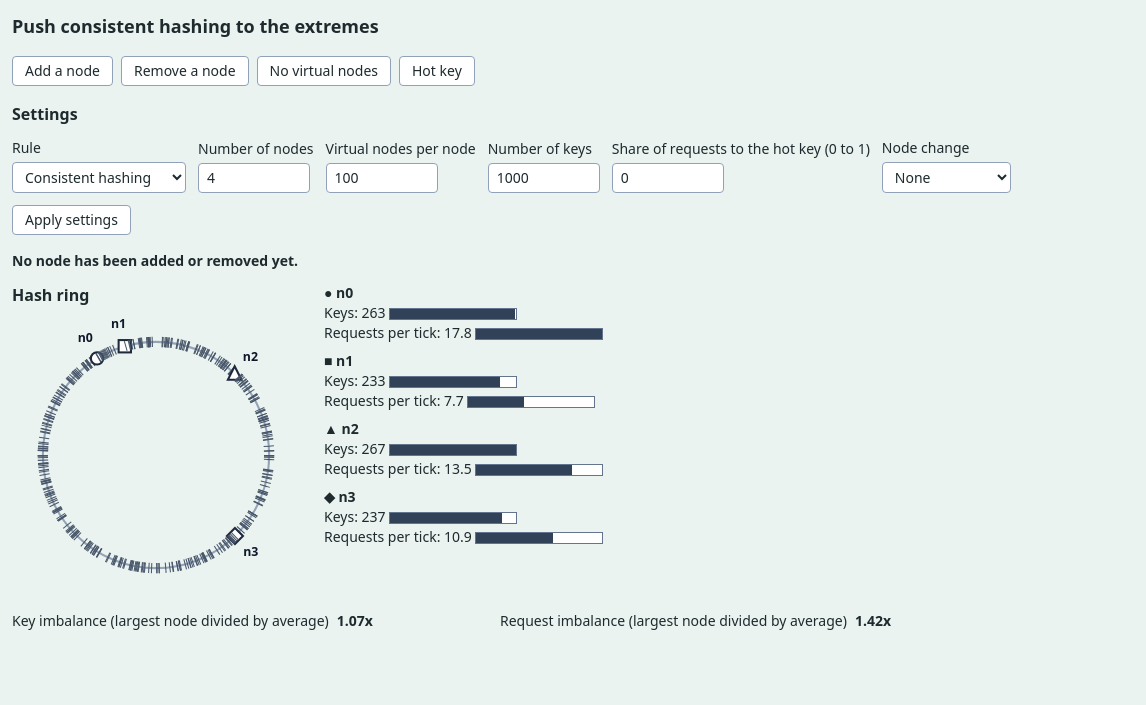
HashingExtremePanel › each preset sets its values and stays editable
This screenshot has width=1146, height=705.
Step 1. Click the button "No virtual nodes" → (324, 71), box [257,56,391,86]
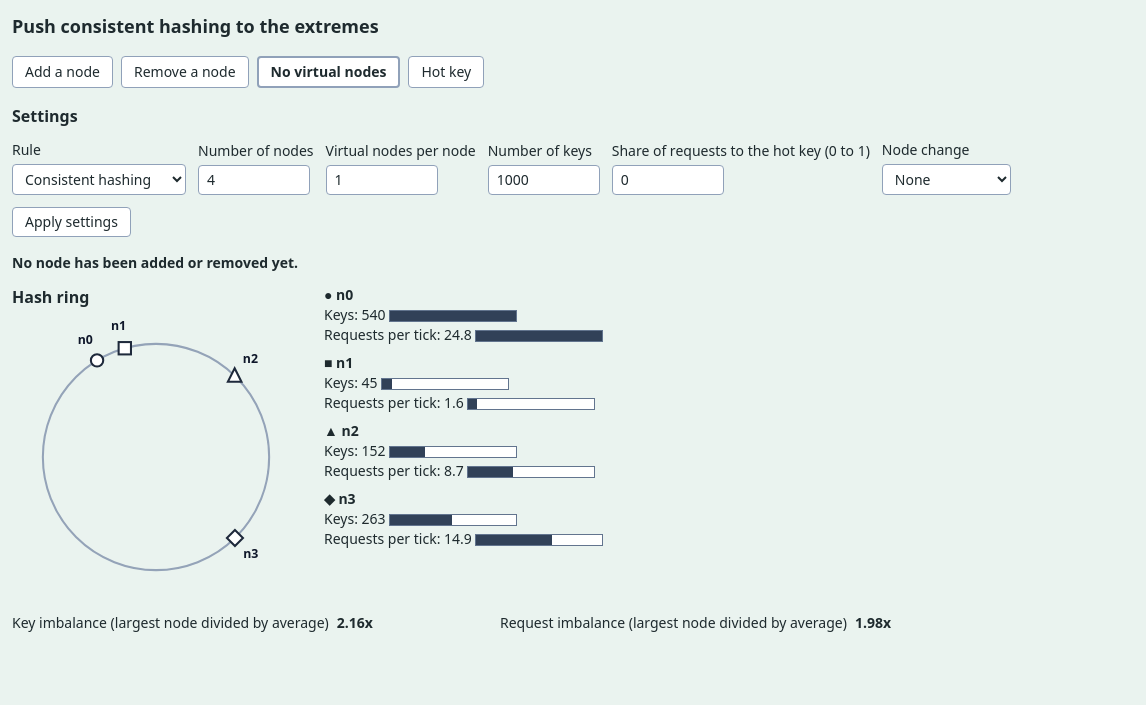
Expected: the number field labelled "Virtual nodes per node" holds "1"
Step 2. Replace the text in the number field labelled "Virtual nodes per node" with "5" → (382, 180), box [326,165,438,195]
Step 3. Click the button "Hot key" → (446, 72), box [408,56,484,88]
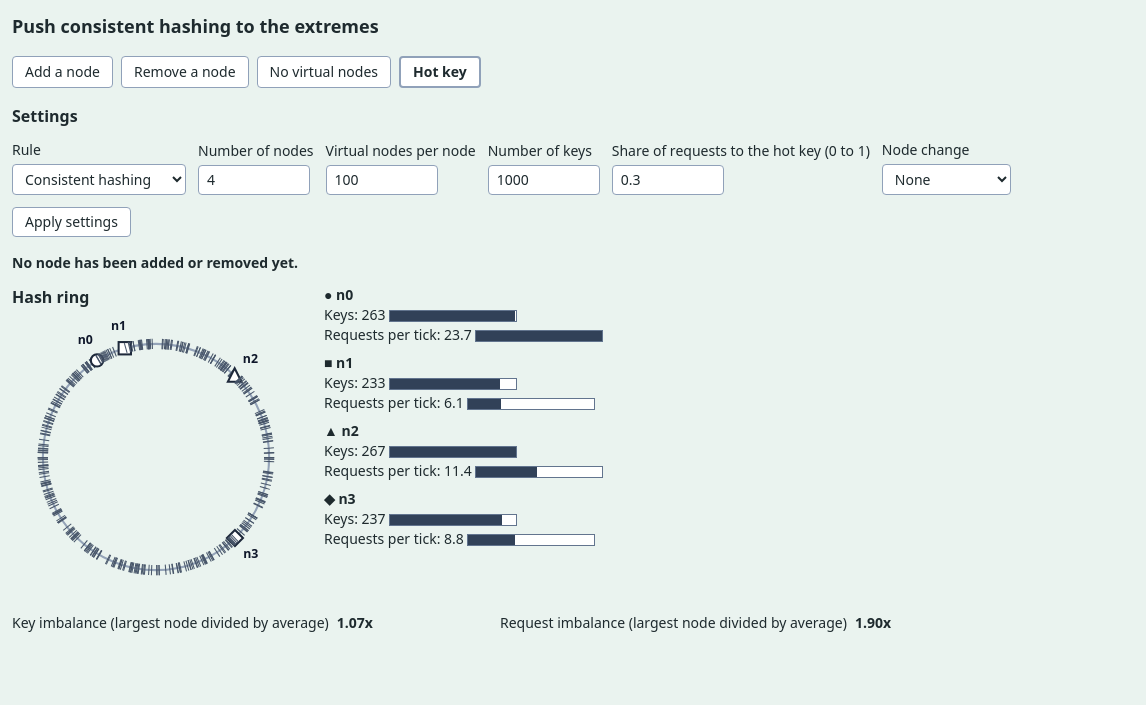
Expected: the number field labelled "Share of requests to the hot key (0 to 1)" holds "0.3", [612,165,724,195]
Step 4. Click the button "Remove a node" → (185, 72), box [121,56,249,88]
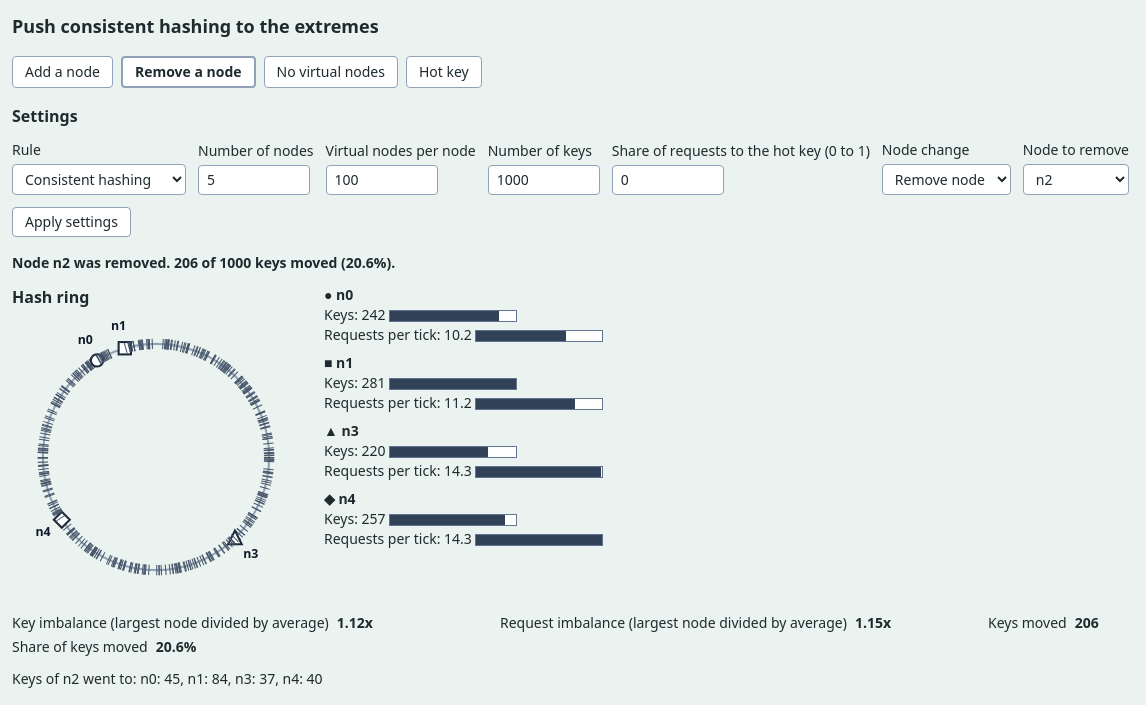
Expected: the number field labelled "Number of nodes" holds "5", [198,165,310,195]
Expected: the dropdown labelled "Node to remove" shows "n2", [1023,164,1129,195]
Expected: the text "Node n2 was removed. 206 of 1000 keys moved (20.6%)." is shown, [12,253,395,272]
Step 5. Click the button "Add a node" → (62, 72), box [12,56,113,88]
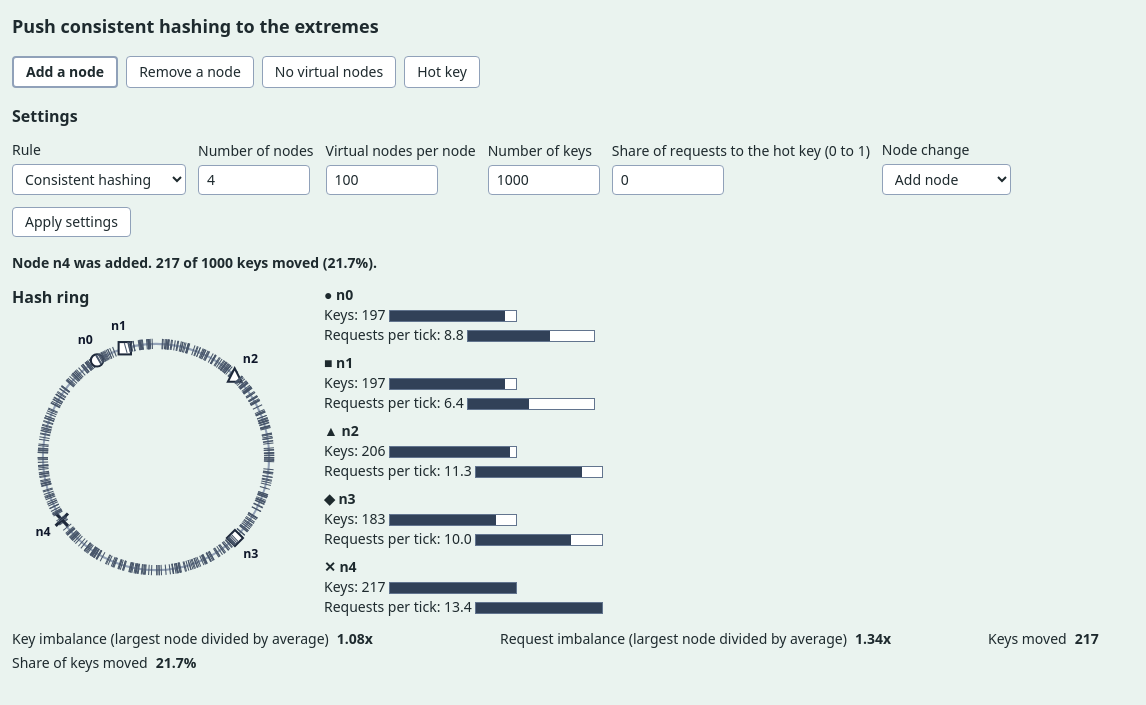
Expected: the dropdown labelled "Node change" shows "Add node", [882,164,1011,195]
Expected: the text "Node n4 was added. 217 of 1000 keys moved (21.7%)." is shown, [12,253,377,272]
Step 6. Replace the text in the number field labelled "Number of keys" with "500" → (544, 180), box [488,165,600,195]
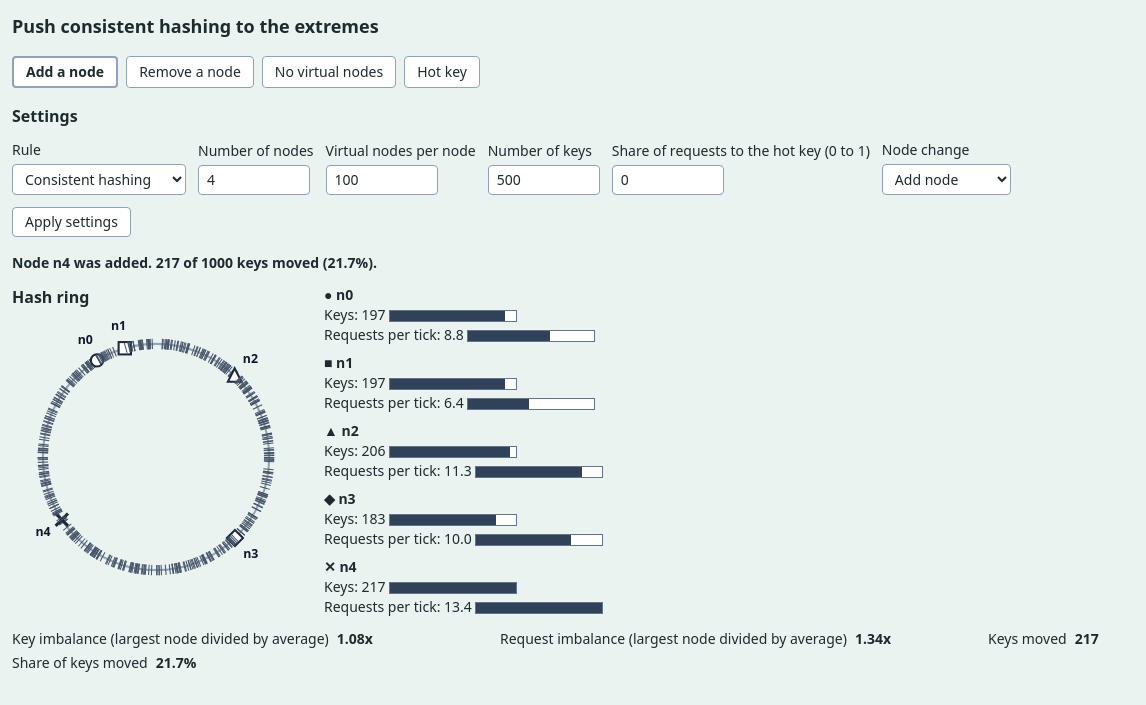
Step 7. Click the button "Apply settings" → (71, 222), box [12,207,131,237]
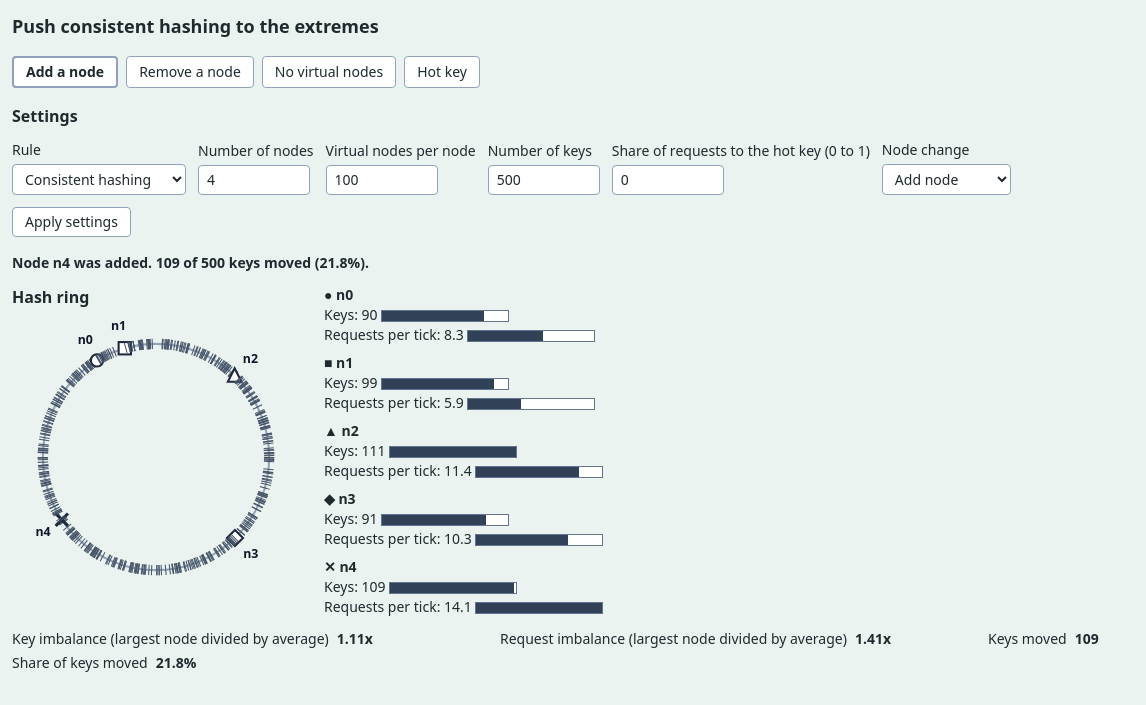
Expected: the text "Node n4 was added. 109 of 500 keys moved (21.8%)." is shown, [12,253,369,272]
